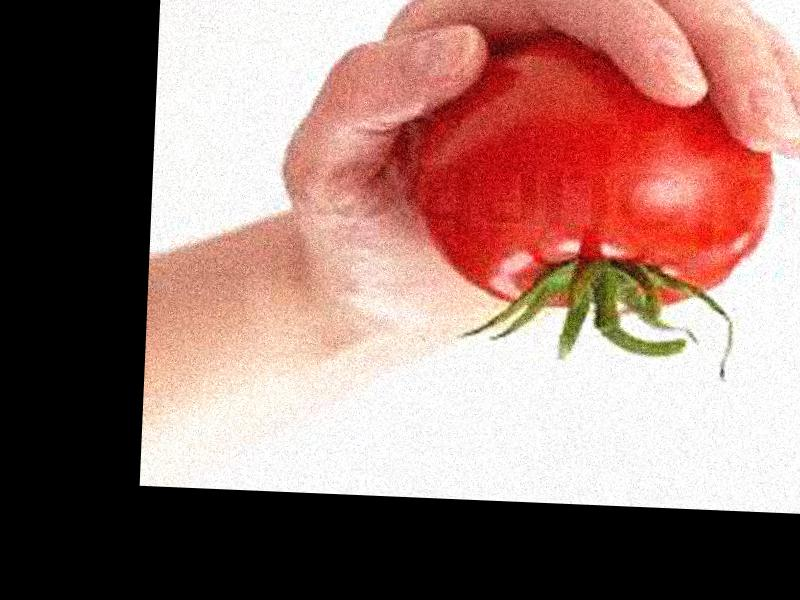Tomato: (416, 31, 779, 321)
